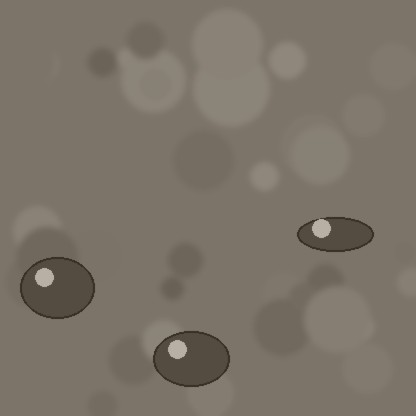gota: (20, 259, 94, 323), (153, 333, 229, 391), (297, 218, 373, 254)
